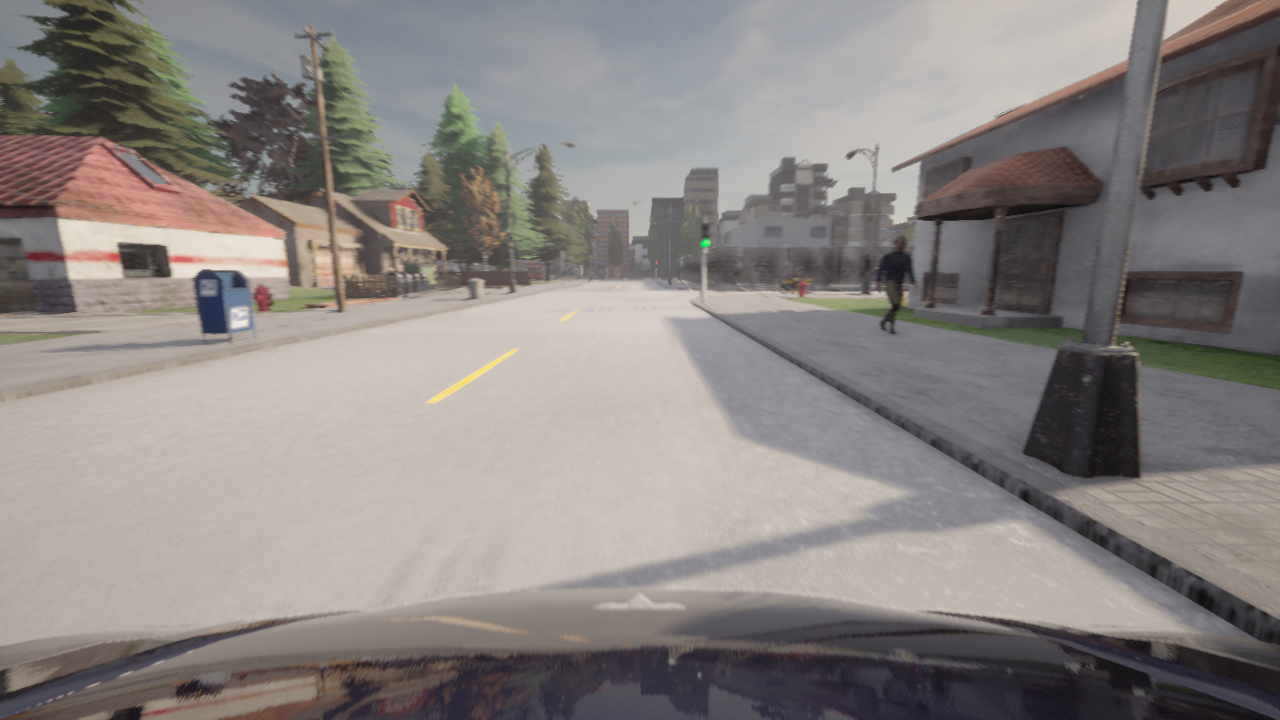cyclist: (0, 588, 1279, 719), (779, 274, 813, 293), (869, 267, 878, 279), (874, 276, 876, 279)
pedestrian: (876, 235, 919, 334)
